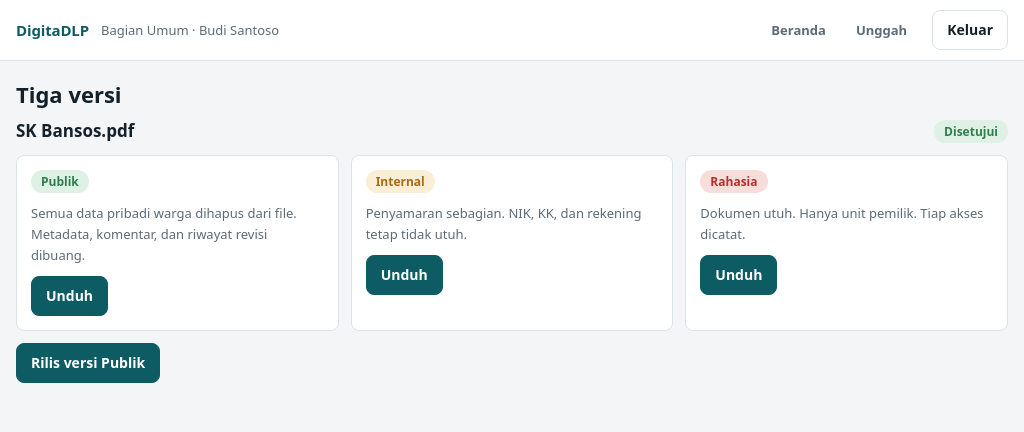
Test case: 403 shows server message on that card only
Expected: the heading "SK Bansos.pdf" is shown, [16, 121, 134, 142]
Step 1. Click the button "Unduh" below "Rahasia" → point(739, 275), box [700, 255, 777, 295]
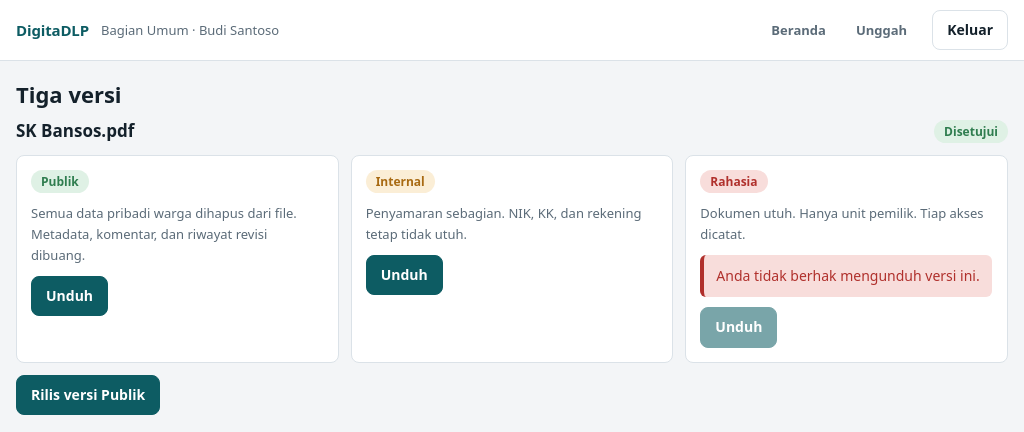
Expected: the 2nd button "Unduh" is enabled, [31, 276, 108, 316]
Expected: the text "Anda tidak berhak mengunduh versi ini." is shown, [700, 255, 992, 297]
Expected: the button "Unduh" below "Anda tidak berhak mengunduh versi ini." is disabled, [700, 307, 777, 348]
